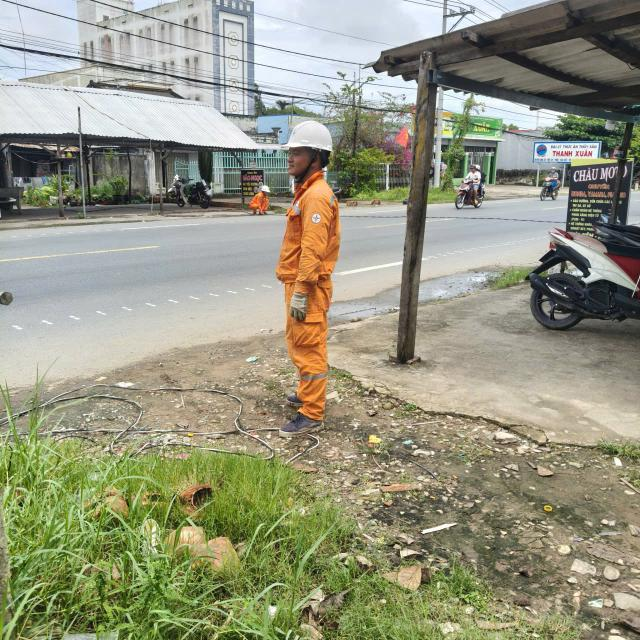gloves: (281, 284, 323, 324)
helmet: (281, 118, 344, 162), (260, 184, 270, 194)
shoes: (276, 411, 332, 446), (281, 386, 323, 408)
